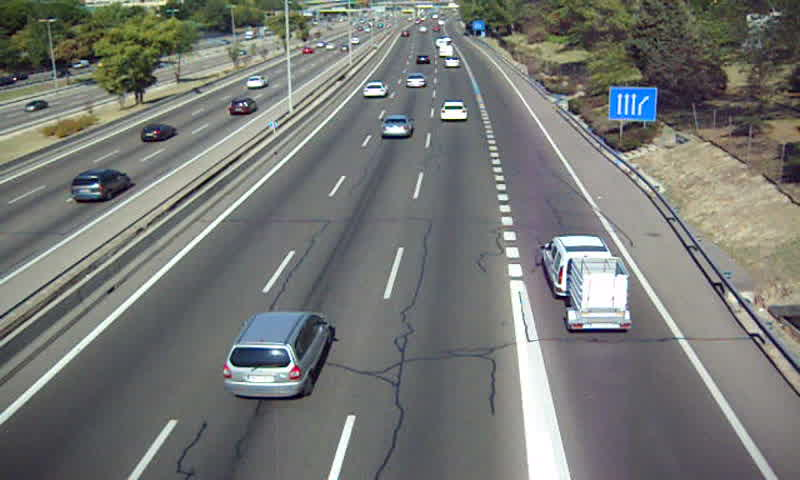car: (223, 311, 332, 397), (379, 116, 413, 139), (439, 101, 468, 122), (362, 82, 388, 100), (403, 73, 428, 90), (444, 56, 462, 68)
van: (541, 236, 615, 298)
